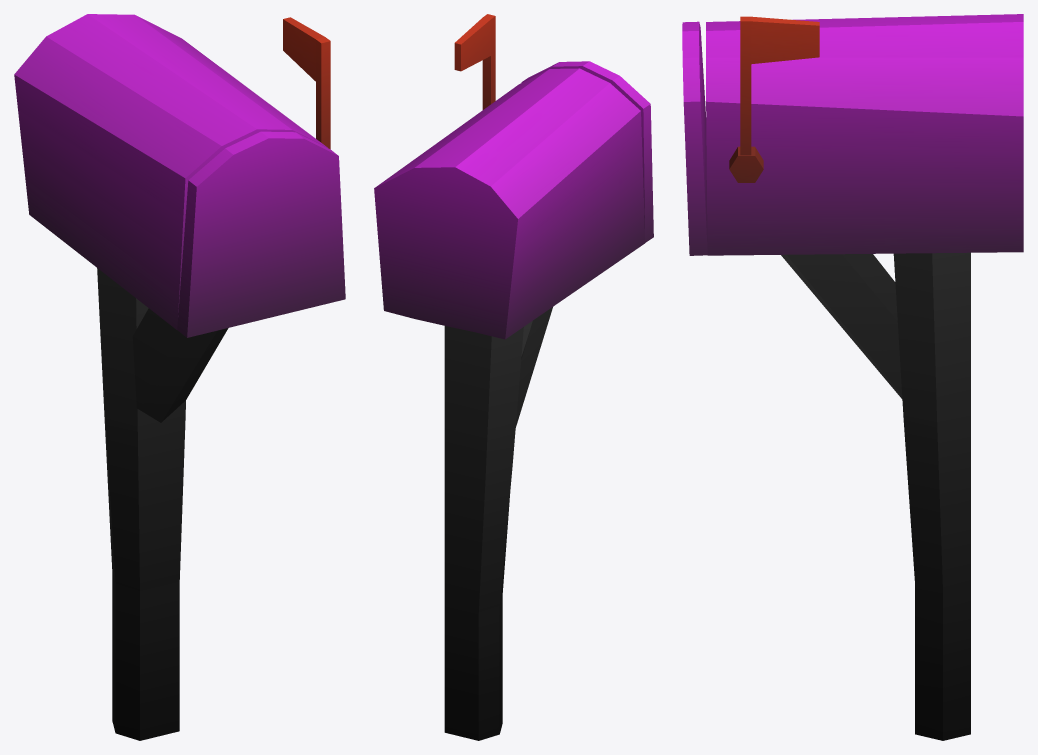
3 renders of one model, left to right at view 1: azimuth 30°, elevation 25°; view 2: azimuth 150°, elevation 25°; view 3: azimuth 270°, elevation 25°, orthographic. The views are drawn at different scales.
Visible parts, largest first — view 1: 4.001; view 2: 4.001; view 3: 4.001.
Part boxes in pixels (left/top/right/bottom): 4.001: left=14, top=14, right=345, bottom=740; 4.001: left=374, top=14, right=653, bottom=740; 4.001: left=682, top=14, right=1023, bottom=740.
Bounding box in the file's own units: 0.7957 × 3.16 × 1.31.
Materials: 1 (1 with a texture image).
